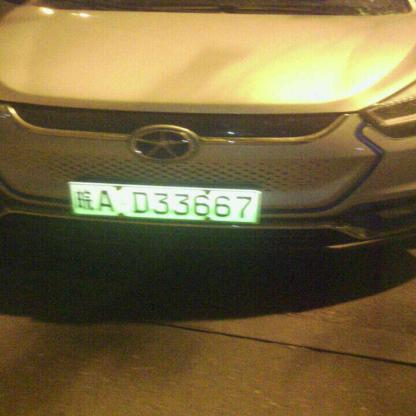lp: (69, 181, 259, 222)
